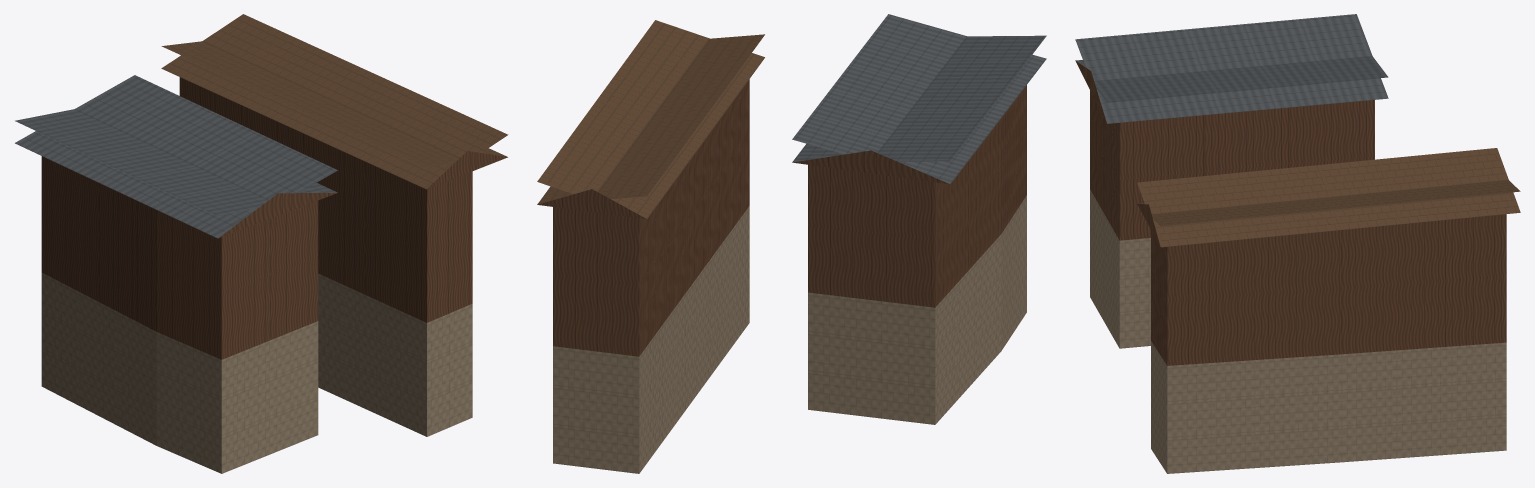
The model's file is bld_c-3_4_535.gltf.
The picture shows the model from 3 angles, left to right: view 1: azimuth 30°, elevation 25°; view 2: azimuth 150°, elevation 25°; view 3: azimuth 270°, elevation 25°; orthographic projection. The views are drawn at different scales.
Parts seen in each view (by area): view 1: bld_c-3_4_535; view 2: bld_c-3_4_535; view 3: bld_c-3_4_535.
Boxes of the visible parts, <box> form: bld_c-3_4_535: <box>15,14,508,473</box>; bld_c-3_4_535: <box>537,14,1046,473</box>; bld_c-3_4_535: <box>1075,14,1520,473</box>.
Size of the model in its own units: 18.27 by 13.9 by 19.06.
5 materials, 5 textured.
